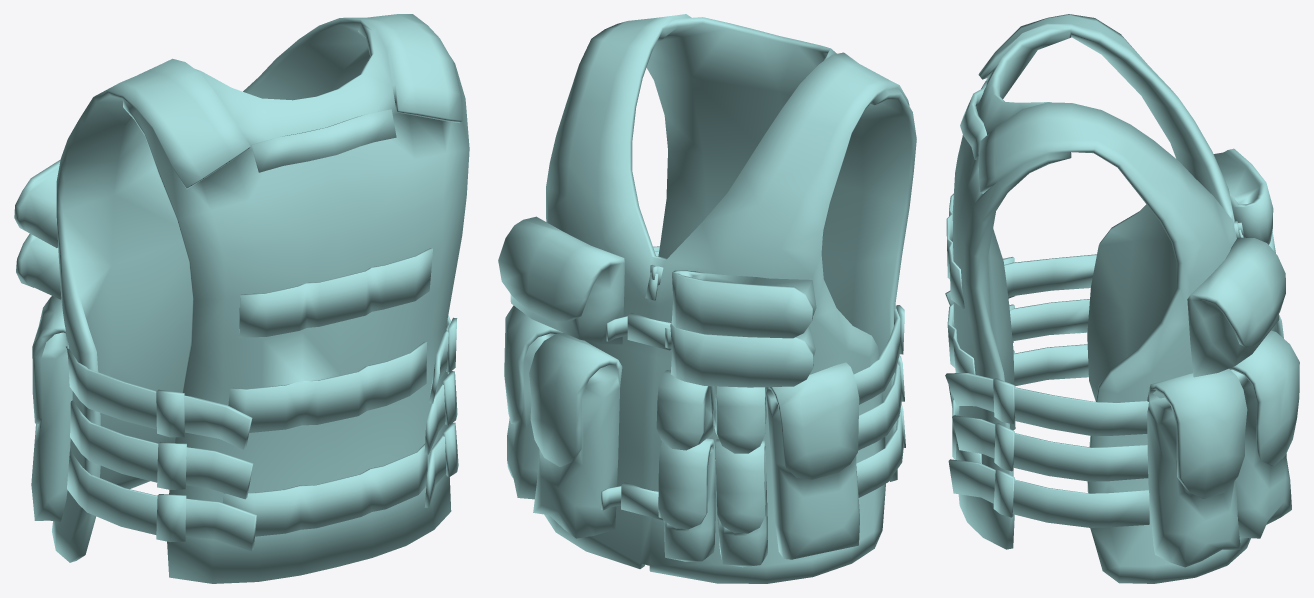
The model's file is Jaket.fbx.
3 views of the same model, side by side, from view 1: azimuth 30°, elevation 25°; view 2: azimuth 150°, elevation 25°; view 3: azimuth 270°, elevation 25° (orthographic). The views are drawn at different scales.
Visible parts, largest first — view 1: Stalker5; view 2: Stalker5; view 3: Stalker5.
Boxes of the visible parts, bbox=[...] form: Stalker5: bbox=[14, 14, 469, 583]; Stalker5: bbox=[498, 14, 916, 583]; Stalker5: bbox=[945, 14, 1299, 583].
Size of the model in its own units: 48.34 by 61.2 by 43.43.
